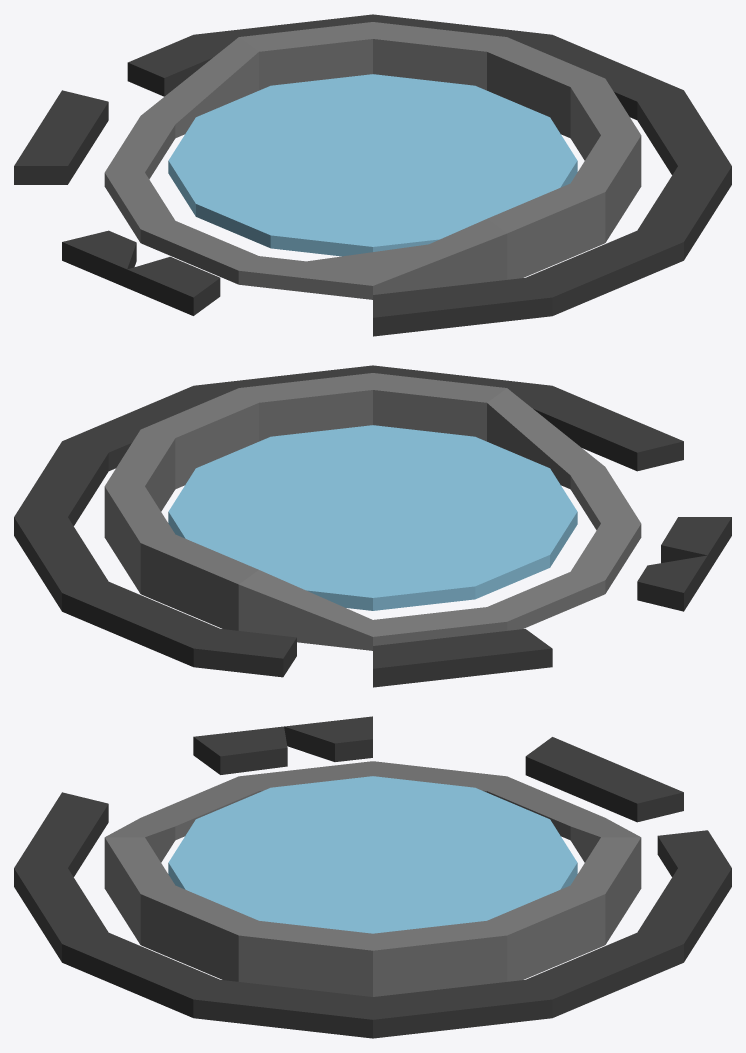
The model's file is Exit.fbx.
The picture shows the model from 3 angles, top to bottom: view 1: azimuth 30°, elevation 25°; view 2: azimuth 150°, elevation 25°; view 3: azimuth 270°, elevation 25°; orthographic projection.
Parts seen in each view (by area): view 1: Cylinder.001, Cylinder.002, Cylinder; view 2: Cylinder.001, Cylinder.002, Cylinder; view 3: Cylinder, Cylinder.001, Cylinder.002.
Boxes of the visible parts, bbox=[...] form: Cylinder.001: bbox=[104, 22, 641, 299]; Cylinder.002: bbox=[168, 74, 577, 256]; Cylinder: bbox=[14, 14, 731, 336]; Cylinder.001: bbox=[104, 373, 641, 650]; Cylinder.002: bbox=[168, 425, 577, 610]; Cylinder: bbox=[14, 365, 731, 687]; Cylinder: bbox=[14, 716, 731, 1038]; Cylinder.001: bbox=[104, 761, 641, 996]; Cylinder.002: bbox=[168, 776, 577, 933].
Bounding box in the file's own units: 200 × 15.75 × 200.
